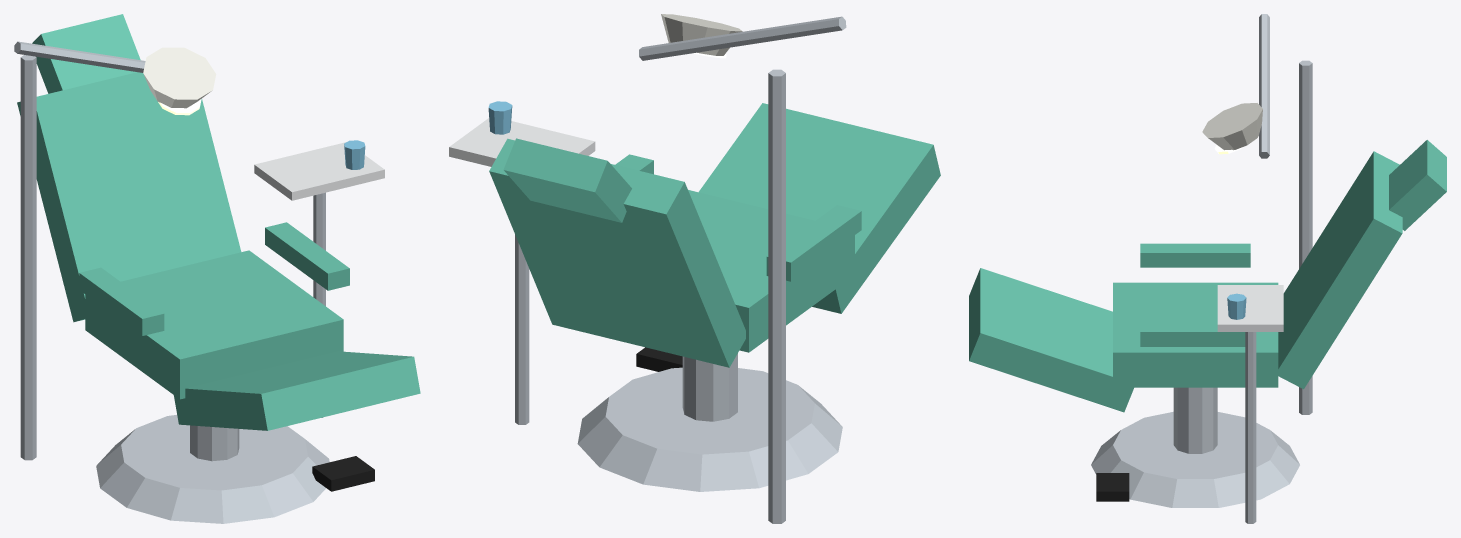
The model's file is dentist_chair.glb.
3 renders of one model, left to right at view 1: azimuth 30°, elevation 25°; view 2: azimuth 150°, elevation 25°; view 3: azimuth 270°, elevation 25°, orthographic. The views are drawn at different scales.
Parts seen in each view (by area): view 1: back_chair_mint, seat_chair_mint, base_dental_chrome, lamp_dental_chrome, arms_chair_mint, tray_dental_white, lamp_lamp_white, pedal_pedal_black, tray_dental_chrome, tray_cup_paper; view 2: back_chair_mint, seat_chair_mint, base_dental_chrome, lamp_dental_chrome, arms_chair_mint, tray_dental_white, tray_dental_chrome, lamp_lamp_white, pedal_pedal_black, tray_cup_paper; view 3: seat_chair_mint, back_chair_mint, base_dental_chrome, arms_chair_mint, lamp_dental_chrome, tray_dental_white, tray_dental_chrome, lamp_lamp_white, pedal_pedal_black.
Part boxes in pixels (x1,y1,x2,y2): back_chair_mint: (17,14,241,322); seat_chair_mint: (85,250,420,430); base_dental_chrome: (96,415,329,523); lamp_dental_chrome: (14,41,145,460); arms_chair_mint: (79,222,349,335); tray_dental_white: (254,142,384,200); lamp_lamp_white: (143,47,216,108); pedal_pedal_black: (312,456,374,491); tray_dental_chrome: (313,192,325,417); tray_cup_paper: (344,140,365,169); back_chair_mint: (489,138,745,367); seat_chair_mint: (688,103,940,352); base_dental_chrome: (577,353,842,491); lamp_dental_chrome: (639,16,846,523); arms_chair_mint: (615,154,861,281); tray_dental_white: (449,118,595,166); tray_dental_chrome: (515,234,529,424); lamp_lamp_white: (661,14,742,55); pedal_pedal_black: (636,347,682,371); tray_cup_paper: (488,101,512,134); seat_chair_mint: (969,268,1278,412); back_chair_mint: (1278,140,1446,389); base_dental_chrome: (1091,387,1299,507); arms_chair_mint: (1140,243,1250,346); lamp_dental_chrome: (1259,14,1312,414); tray_dental_white: (1217,285,1283,331); tray_dental_chrome: (1245,332,1256,523); lamp_lamp_white: (1202,103,1262,150); pedal_pedal_black: (1096,473,1129,501).
Bounding box in the file's own units: 1.25 × 1.54 × 1.73.
